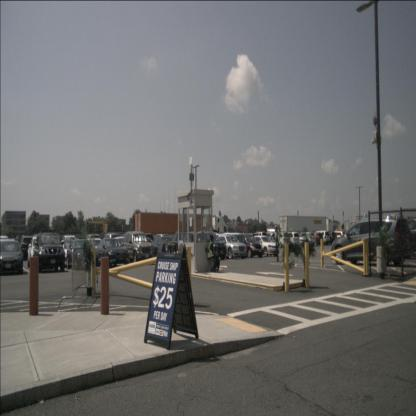human-pedestrian-adult: (206, 235, 220, 272), (274, 224, 281, 262), (271, 233, 276, 256)
vehicle-car: (330, 219, 413, 265), (34, 233, 65, 273), (122, 231, 154, 264), (66, 239, 99, 270), (95, 238, 129, 268), (193, 232, 227, 260), (0, 239, 24, 276), (28, 236, 52, 270), (213, 235, 247, 259), (397, 218, 416, 259), (150, 236, 179, 261), (234, 234, 263, 258), (248, 236, 278, 257), (82, 238, 107, 262), (60, 235, 82, 262), (20, 236, 37, 261), (103, 233, 123, 251), (150, 235, 171, 252), (86, 233, 104, 252), (137, 233, 156, 251), (296, 232, 316, 249), (282, 232, 300, 250), (273, 232, 290, 248), (313, 230, 331, 245), (307, 232, 323, 247), (329, 231, 346, 245), (252, 231, 266, 246)
vehicle-truck: (202, 215, 228, 249), (321, 218, 335, 240)
